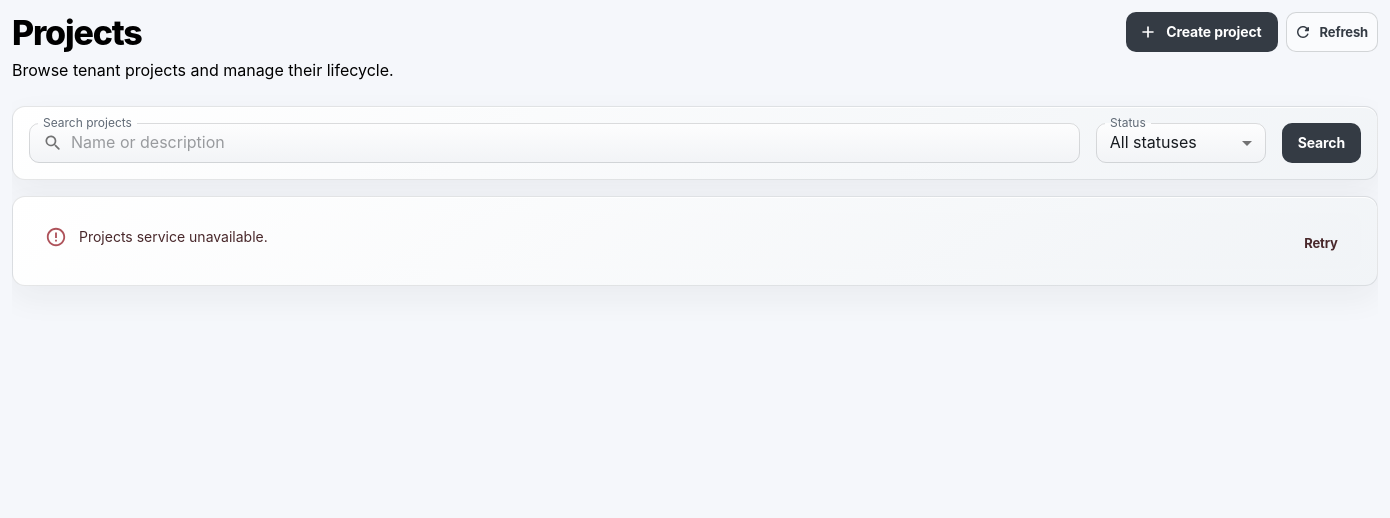
Test: ProjectsPage › retries after the projects request fails
The width and height of the screenshot is (1390, 518).
Expected: the text "Projects service unavailable." is shown, [79,228,268,245]
Click the button "Retry".
click(1321, 243)  # box [1289,223,1353,263]
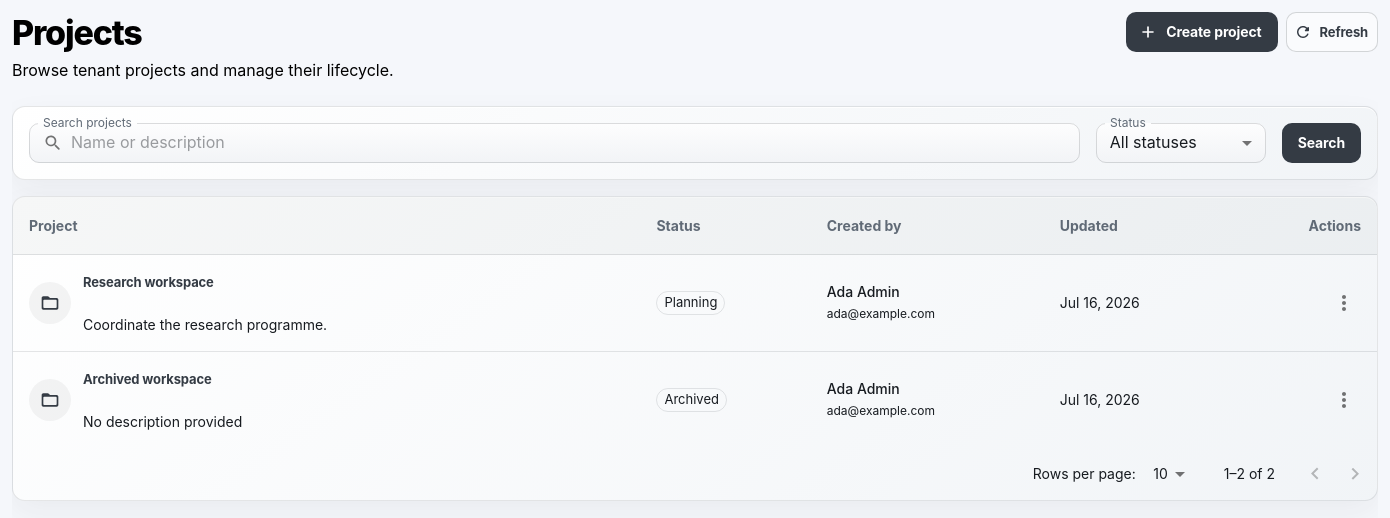
Expected: the link "Research workspace" is shown, [83,274,214,290]
